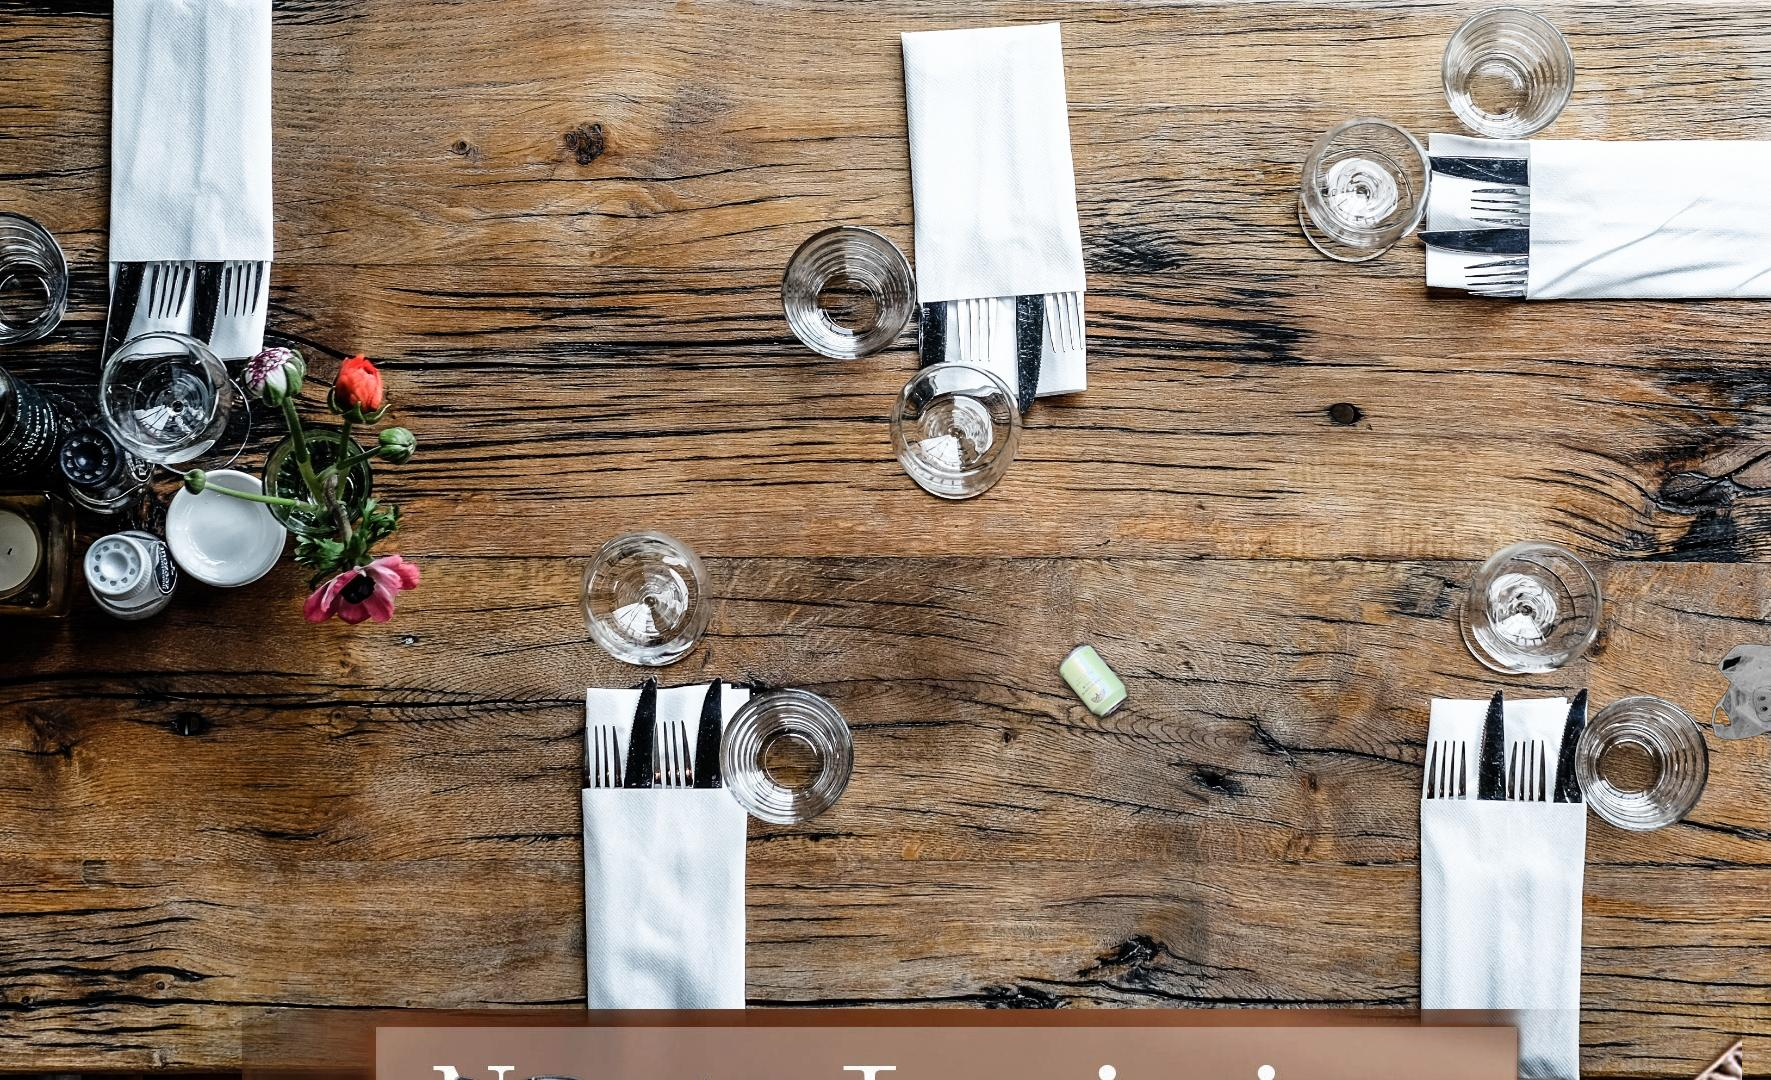metal-cans: (758, 637, 1209, 1010)
plastic-bag: (1710, 641, 1771, 808)
shoes: (420, 1072, 587, 1080)
trashbox-cardboard: (242, 1009, 1742, 1080)
